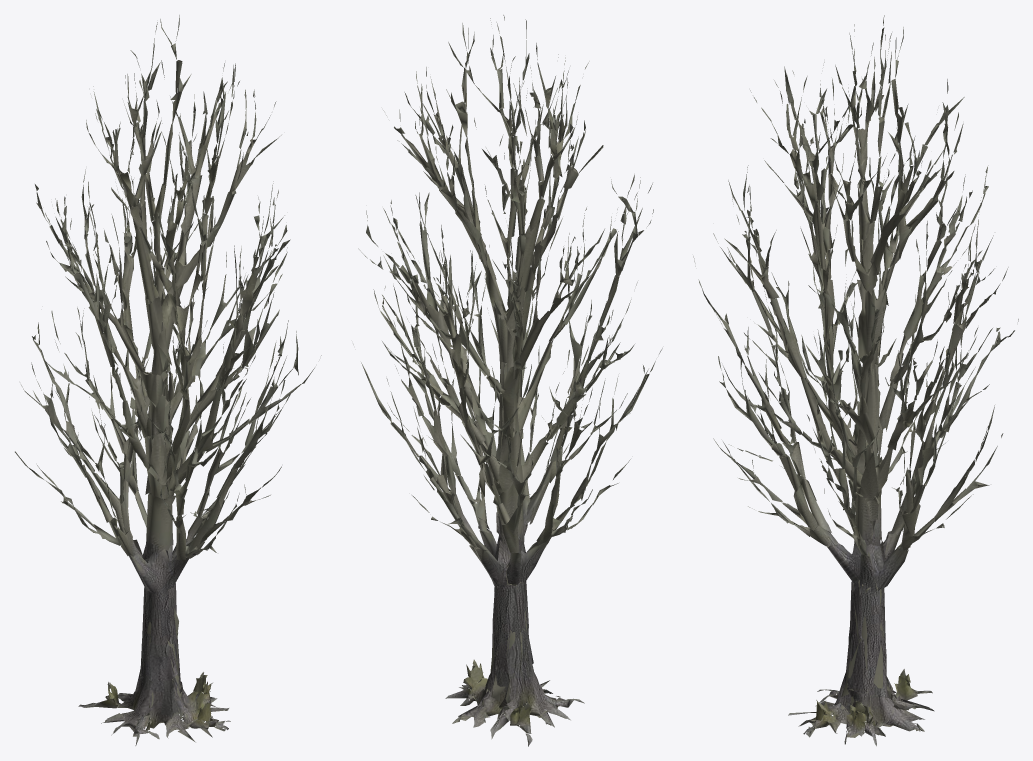
The model's file is tree_silent.glb.
3 views of the same model, side by side, from view 1: azimuth 30°, elevation 25°; view 2: azimuth 150°, elevation 25°; view 3: azimuth 270°, elevation 25° (orthographic). The views are drawn at different scales.
Visible parts, largest first — view 1: Mesh_0; view 2: Mesh_0; view 3: Mesh_0.
Boxes of the visible parts, bbox=[...] form: Mesh_0: bbox=[15, 15, 321, 745]; Mesh_0: bbox=[353, 15, 662, 746]; Mesh_0: bbox=[693, 15, 1018, 746].
Size of the model in its own units: 3.39 by 8.48 by 3.54.
1 material, 1 textured.
